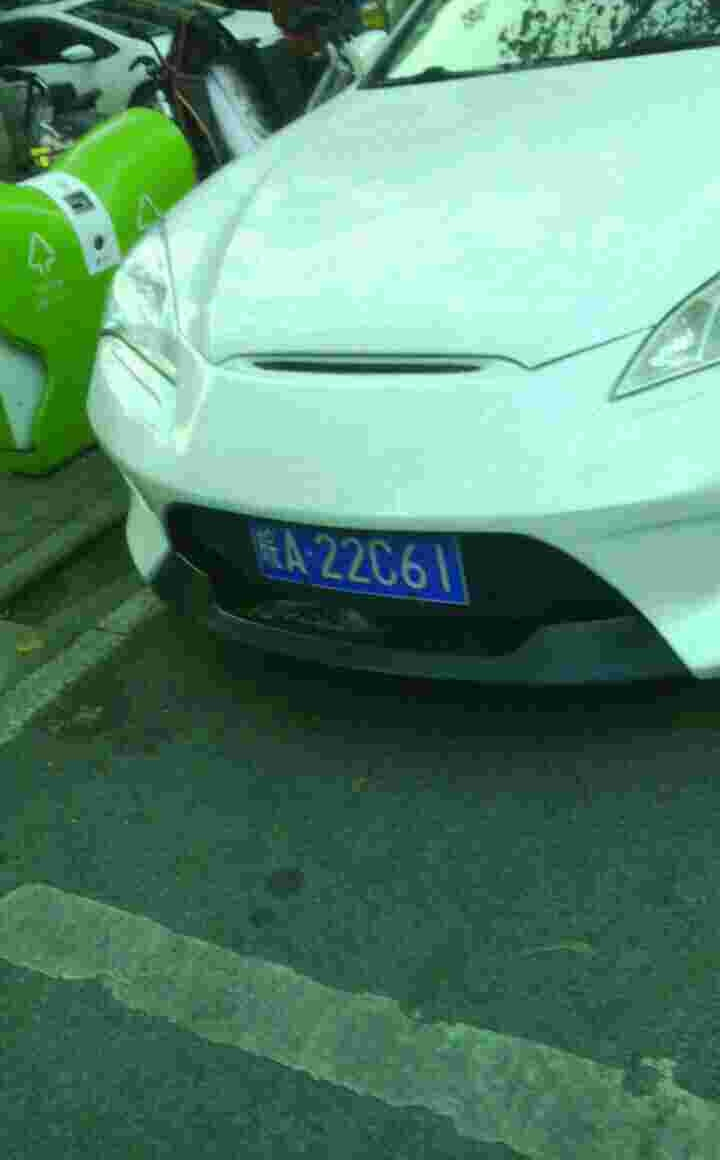license_plate: (258, 519, 459, 605)
